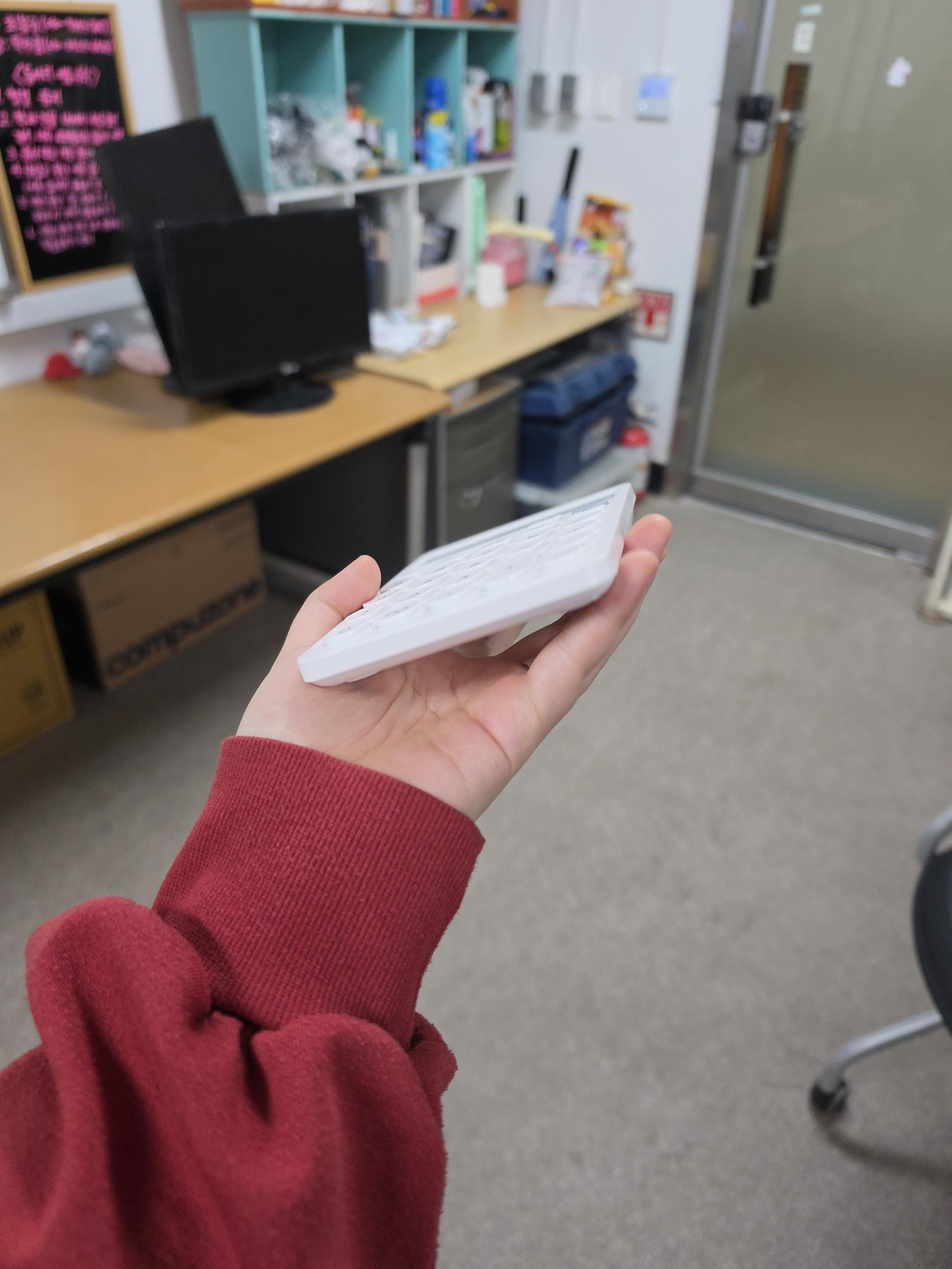calculator: (298, 482, 637, 686)
